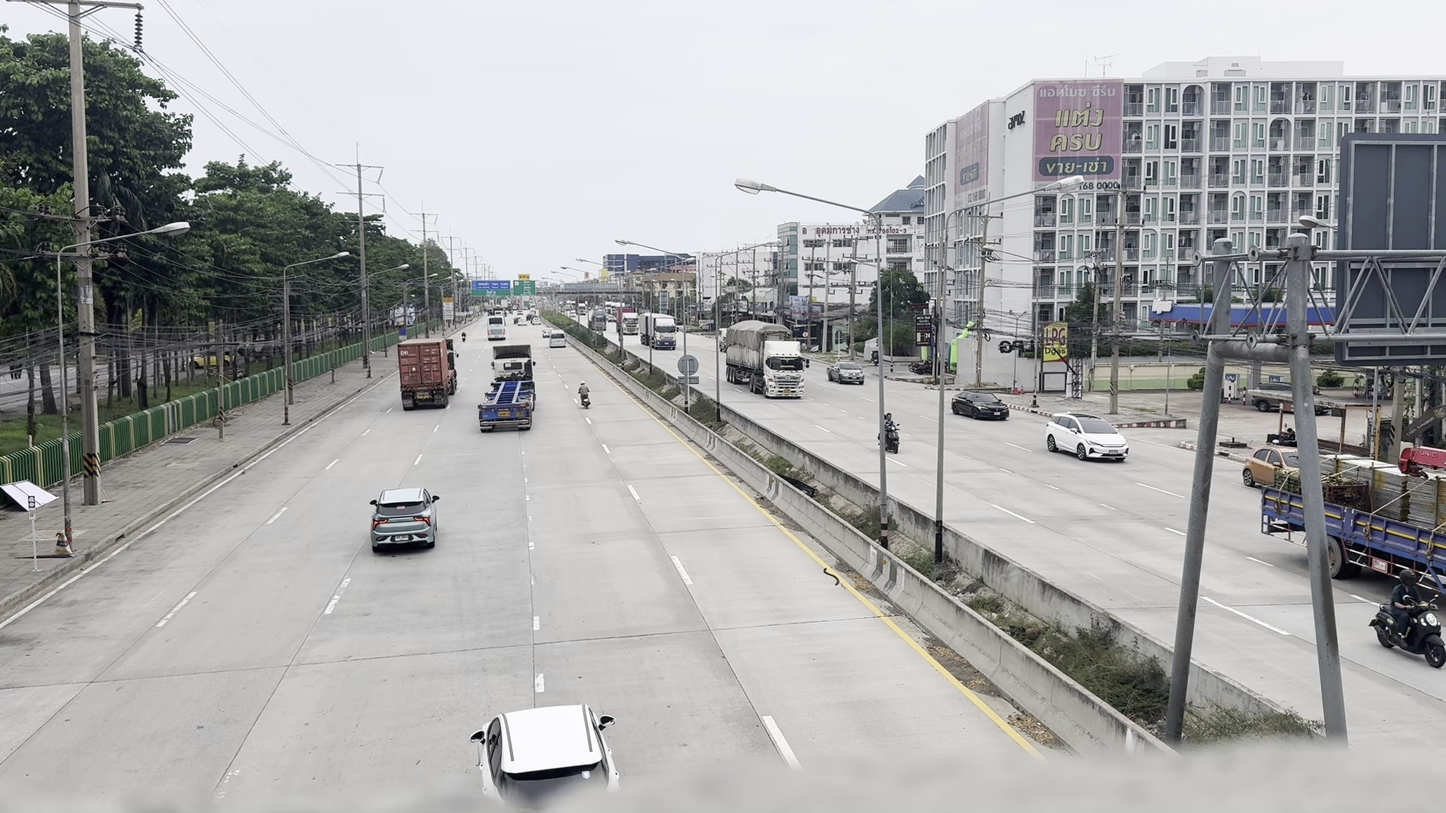car: (470, 705, 619, 784), (370, 486, 440, 556), (1047, 413, 1129, 462), (479, 387, 531, 432), (0, 480, 60, 517), (952, 388, 1010, 421), (1397, 444, 1446, 477), (829, 361, 865, 385)
motorbike: (1369, 570, 1445, 667), (1371, 596, 1445, 671), (1406, 596, 1445, 669)
truck: (470, 704, 619, 786)
